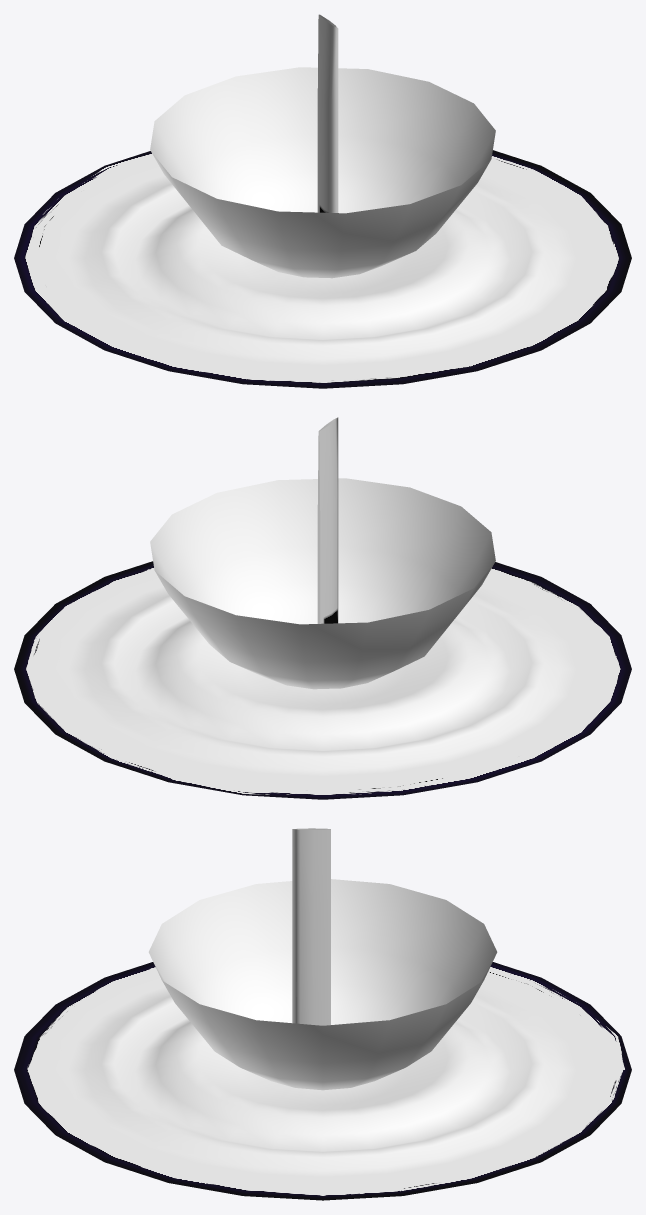
The model's file is VFX_Blocking.fbx.
3 views of the same model, one above another, from view 1: azimuth 30°, elevation 25°; view 2: azimuth 150°, elevation 25°; view 3: azimuth 270°, elevation 25° (orthographic).
Visible parts, largest first — view 1: vfx_Blocking; view 2: vfx_Blocking; view 3: vfx_Blocking.
Part boxes in pixels (x1,y1,x2,y2): vfx_Blocking: [14, 14, 631, 388]; vfx_Blocking: [14, 417, 631, 799]; vfx_Blocking: [14, 828, 631, 1200].
Bounding box in the file's own units: 1232 × 552 × 1232.
